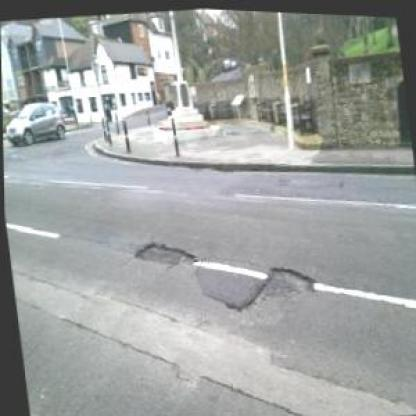pothole: (129, 233, 193, 270), (259, 255, 315, 297)
